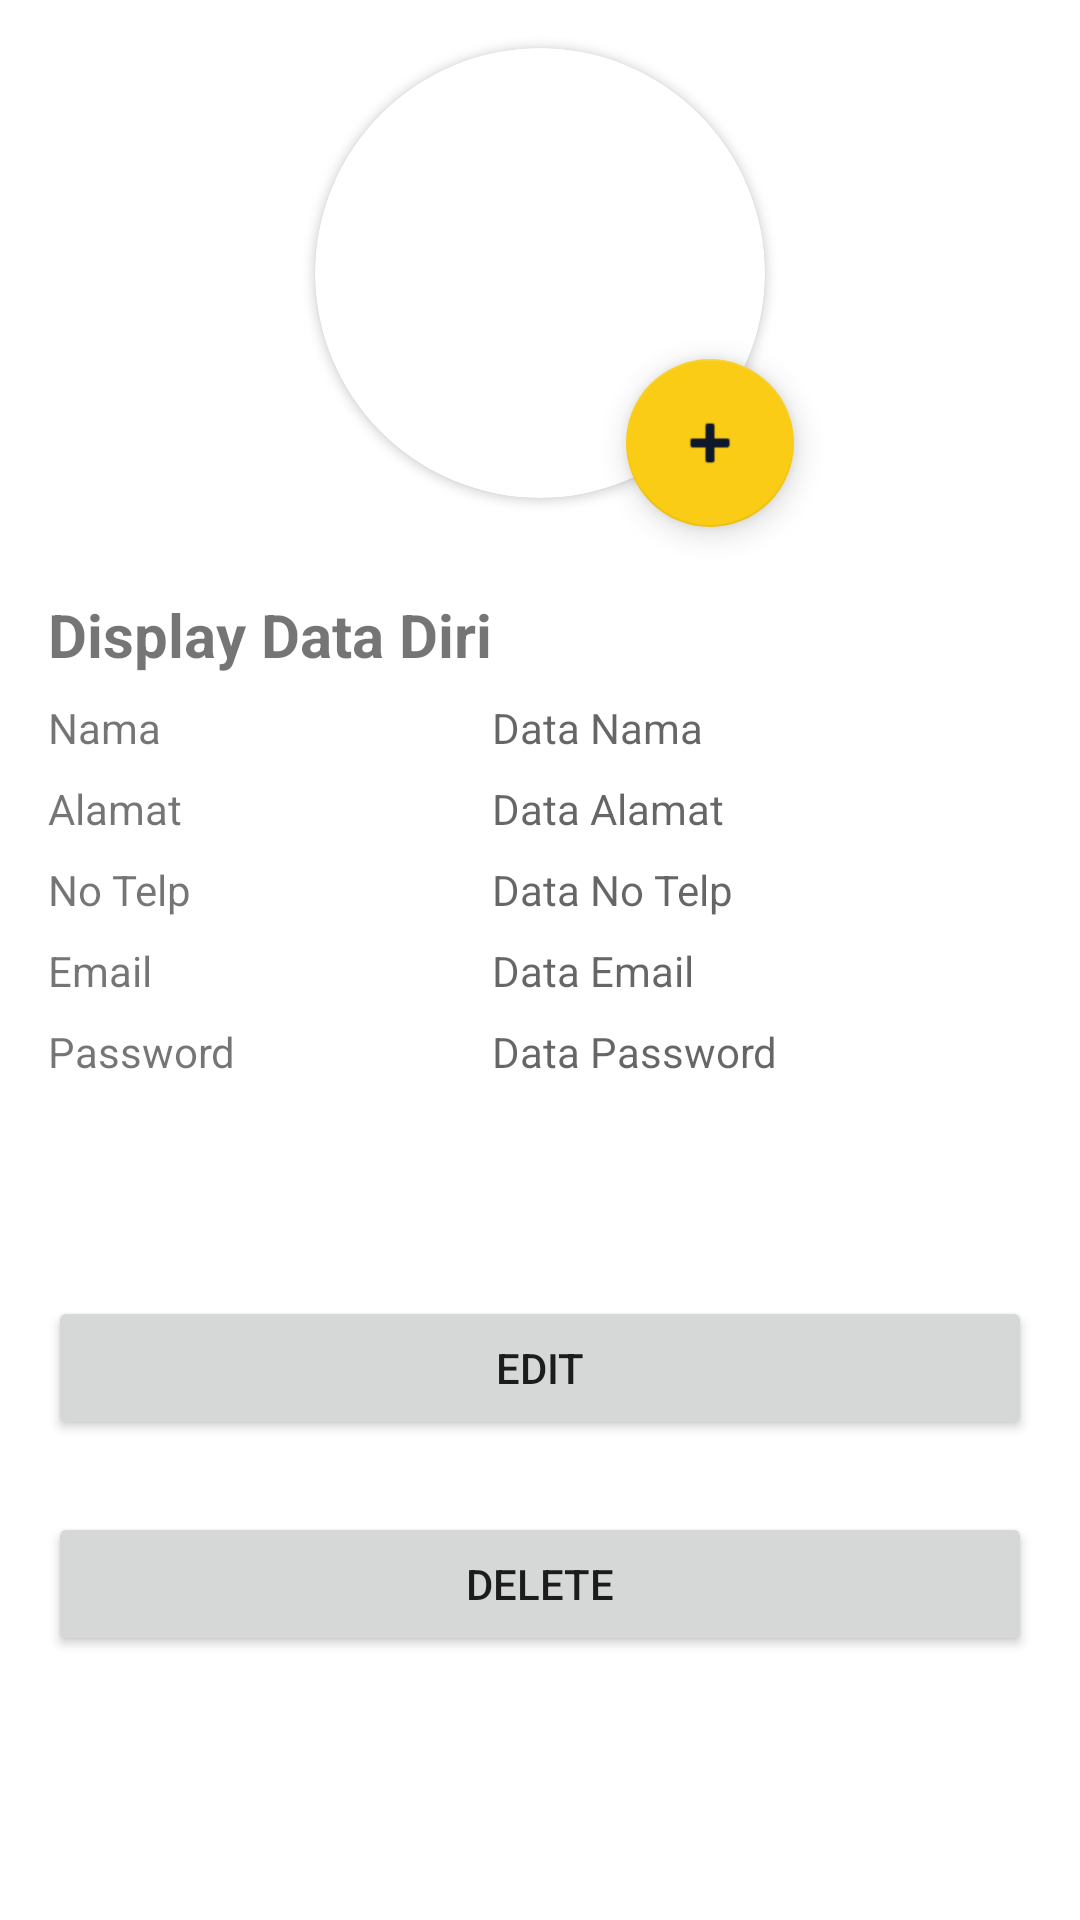

Named icons in this screenshot (1080 x 1920) and their centers, (x,y):
add: (710,443)
